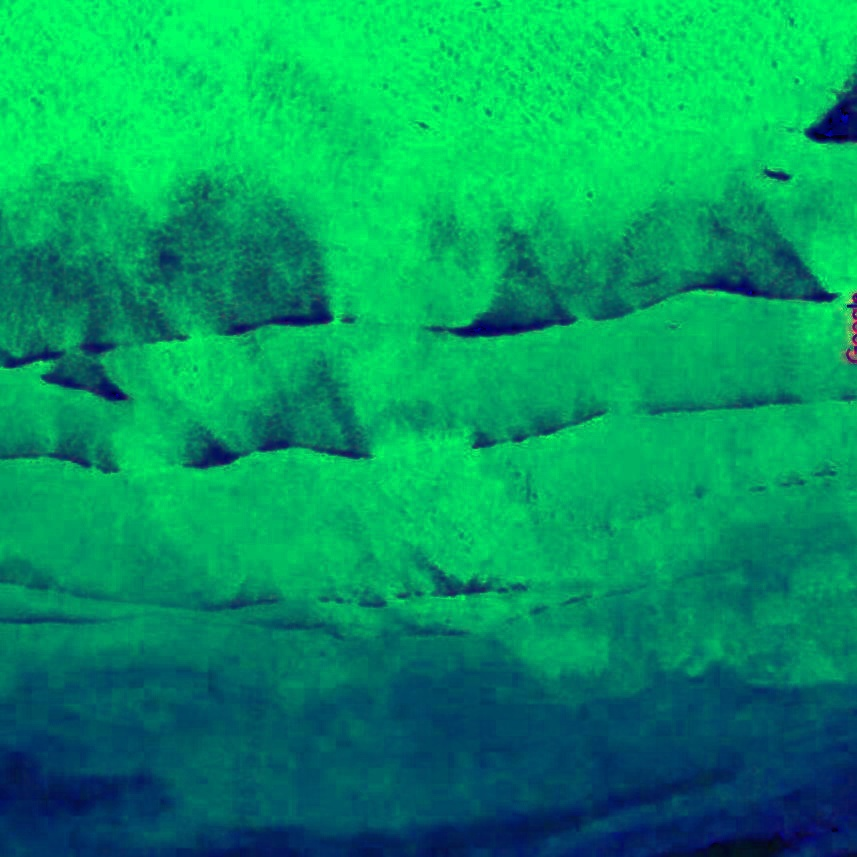rip_current: (261, 157, 578, 629)
